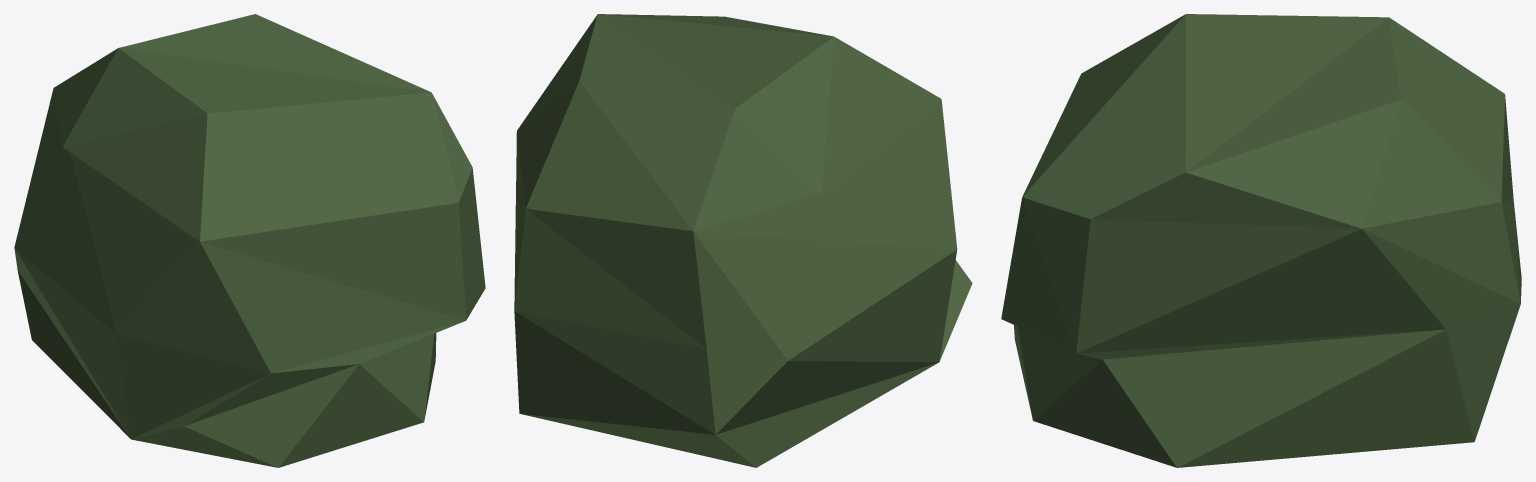
File: Bush_1_lod.glb
3 views of the same model, side by side, from view 1: azimuth 30°, elevation 25°; view 2: azimuth 150°, elevation 25°; view 3: azimuth 270°, elevation 25° (orthographic). The views are drawn at different scales.
Visible parts, largest first — view 1: Bush_1; view 2: Bush_1; view 3: Bush_1.
Boxes of the visible parts, x1,y1,x2,y2 form: Bush_1: (14, 14, 485, 467); Bush_1: (514, 14, 972, 467); Bush_1: (1001, 14, 1521, 467).
Bounding box in the file's own units: 1.27 × 1.11 × 1.55.
